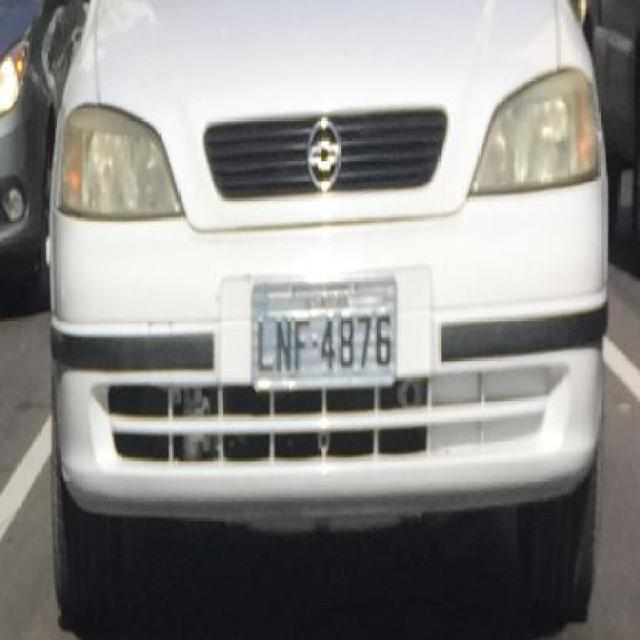old_plate: (244, 267, 404, 392)
